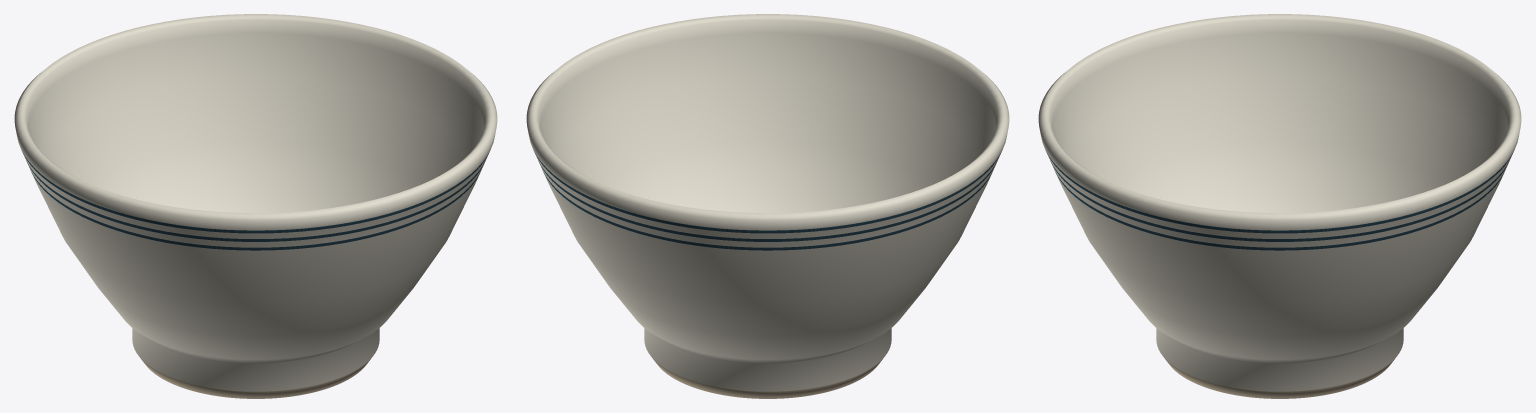
File: ceramic_rice_bowl.glb
3 views of the same model, side by side, from view 1: azimuth 30°, elevation 25°; view 2: azimuth 150°, elevation 25°; view 3: azimuth 270°, elevation 25° (orthographic).
Parts seen in each view (by area): view 1: Wheel thrown bowl with integrated glaze bands and unglazed f; view 2: Wheel thrown bowl with integrated glaze bands and unglazed f; view 3: Wheel thrown bowl with integrated glaze bands and unglazed f.
Part boxes in pixels (bbox=[...]): Wheel thrown bowl with integrated glaze bands and unglazed f: bbox=[14, 14, 497, 398]; Wheel thrown bowl with integrated glaze bands and unglazed f: bbox=[526, 14, 1009, 398]; Wheel thrown bowl with integrated glaze bands and unglazed f: bbox=[1038, 14, 1521, 398].
Bounding box in the file's own units: 0.125 × 0.0675 × 0.125.
